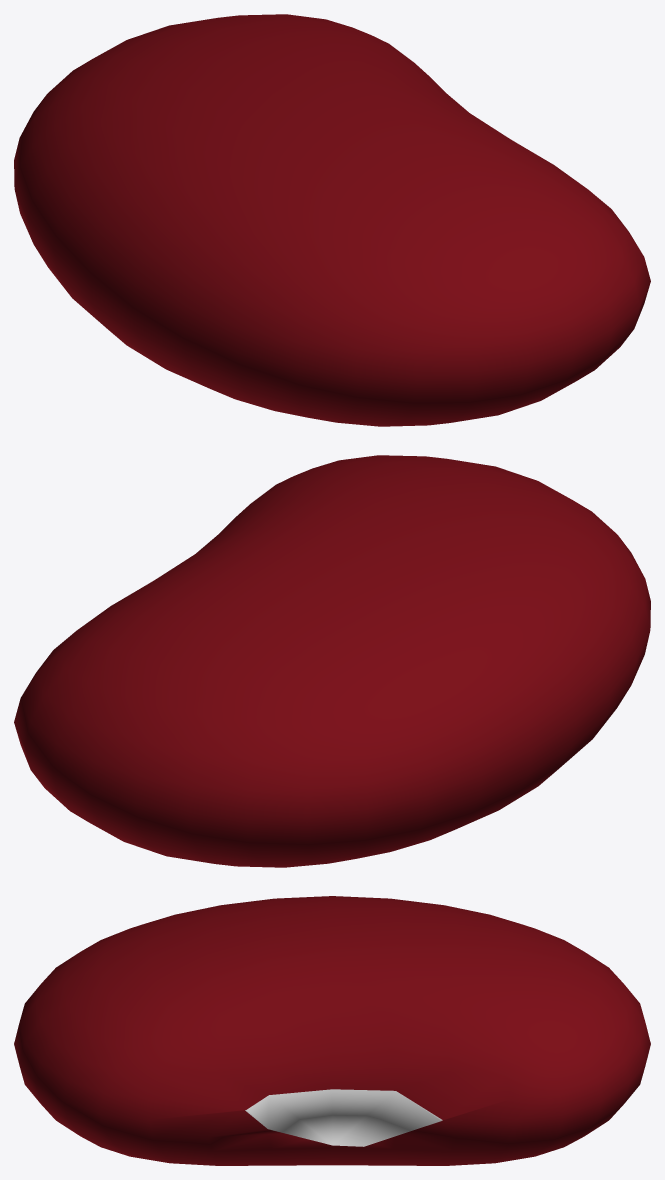
File: LBSR_Bean.fbx
The picture shows the model from 3 angles, top to bottom: view 1: azimuth 30°, elevation 25°; view 2: azimuth 150°, elevation 25°; view 3: azimuth 270°, elevation 25°; orthographic projection. The views are drawn at different scales.
Visible parts, largest first — view 1: red kidney bean; view 2: red kidney bean; view 3: red kidney bean.
Boxes of the visible parts, box(x1,y1,x2,y2) form: red kidney bean: box(14, 14, 650, 426); red kidney bean: box(14, 455, 650, 867); red kidney bean: box(14, 896, 650, 1165).
Size of the model in its own units: 1.51 by 0.8553 by 2.34.
